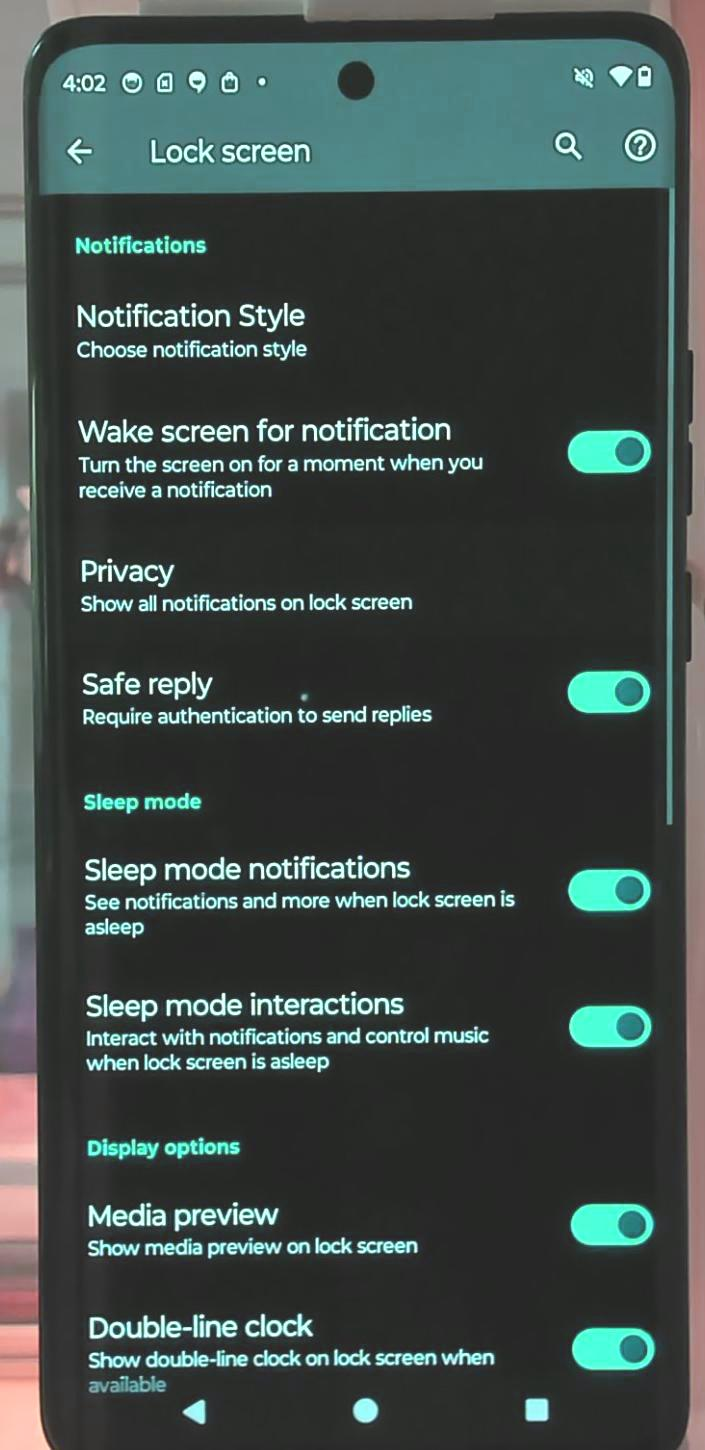Checkbox: (69, 407, 659, 513), (79, 849, 656, 947), (82, 989, 654, 1079), (72, 659, 656, 740), (83, 1308, 662, 1384), (81, 1193, 660, 1268)
CommunBotton: (546, 119, 589, 172), (177, 1392, 213, 1431), (518, 1391, 558, 1425), (347, 1392, 386, 1425), (64, 137, 99, 167)
